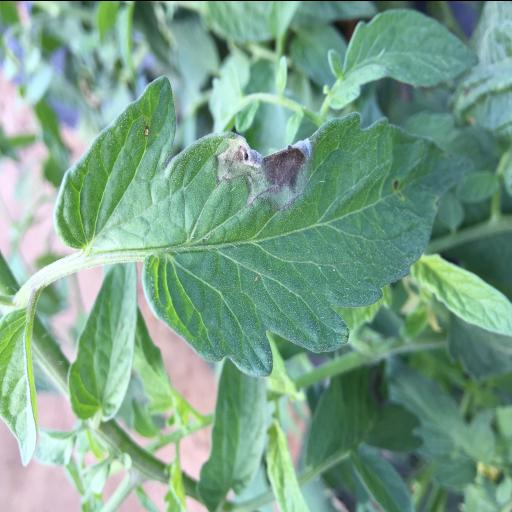disease_tomato: (141, 111, 473, 377)
